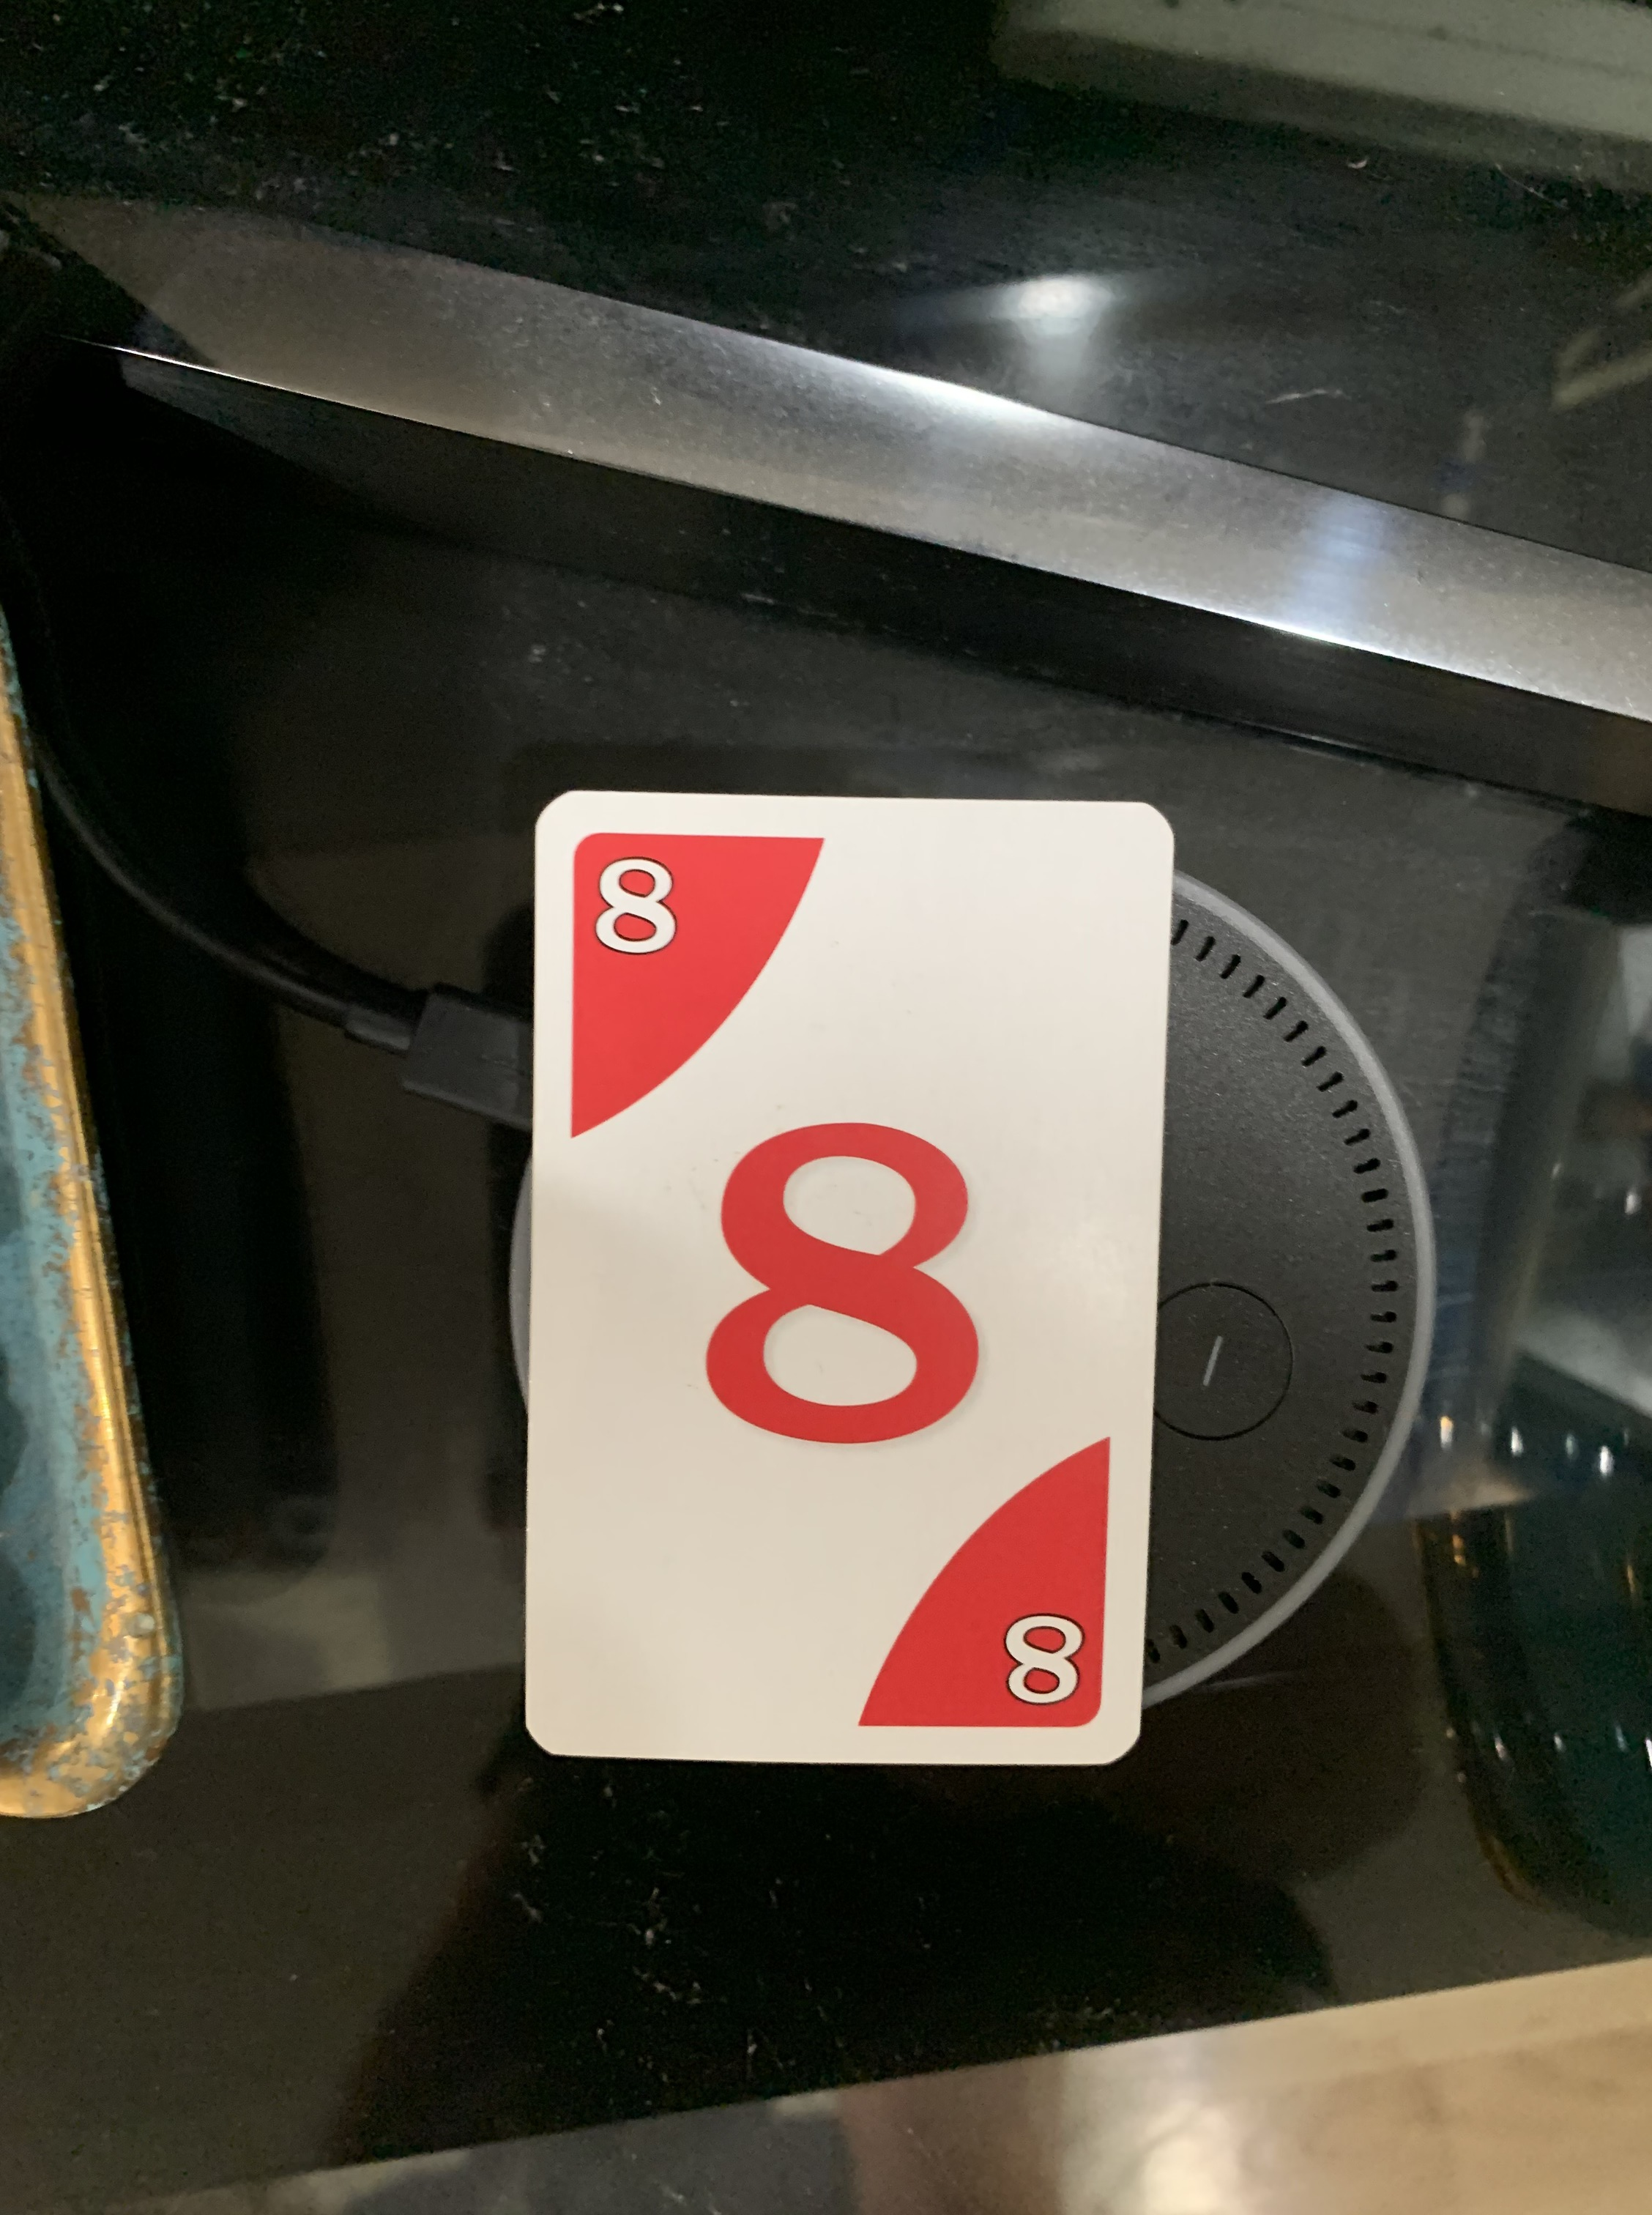eight: (493, 774, 1192, 1783)
